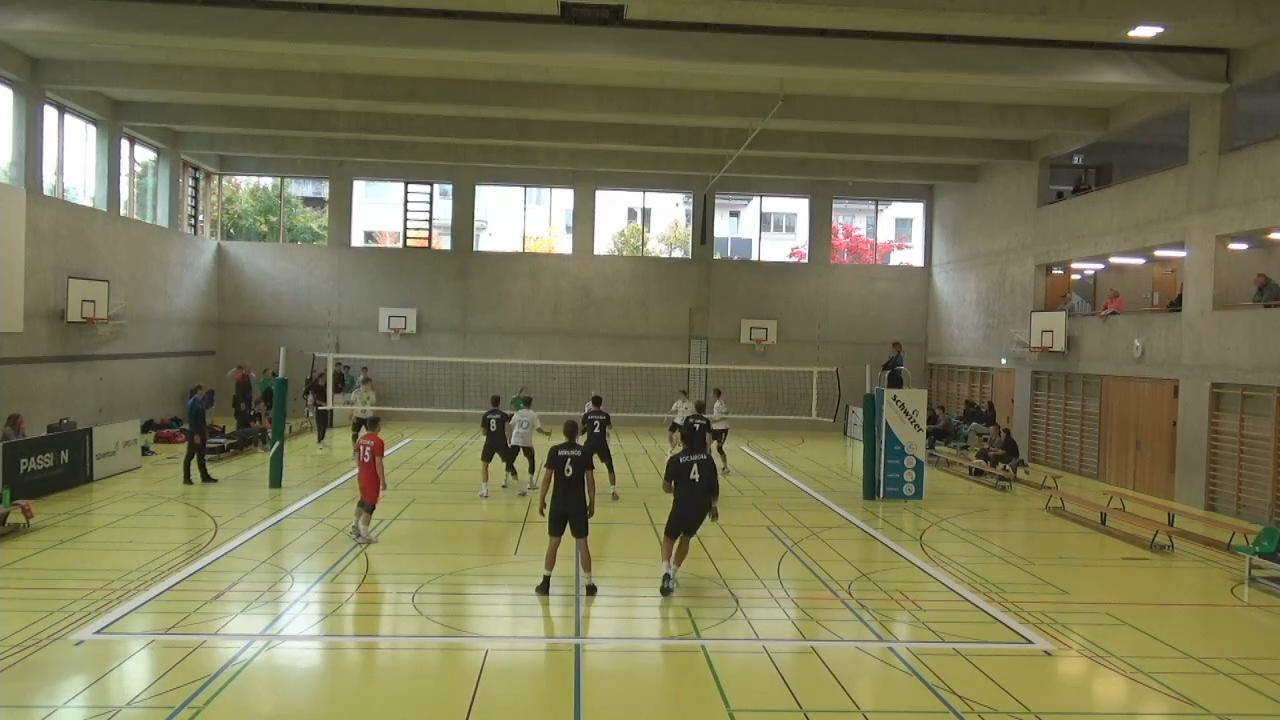Player: (536, 421, 597, 597), (656, 426, 718, 596), (481, 395, 524, 498), (582, 393, 623, 500), (352, 417, 387, 540), (347, 373, 382, 458), (705, 388, 733, 485), (680, 400, 716, 455), (513, 386, 540, 455), (667, 391, 693, 454), (507, 380, 529, 414)
